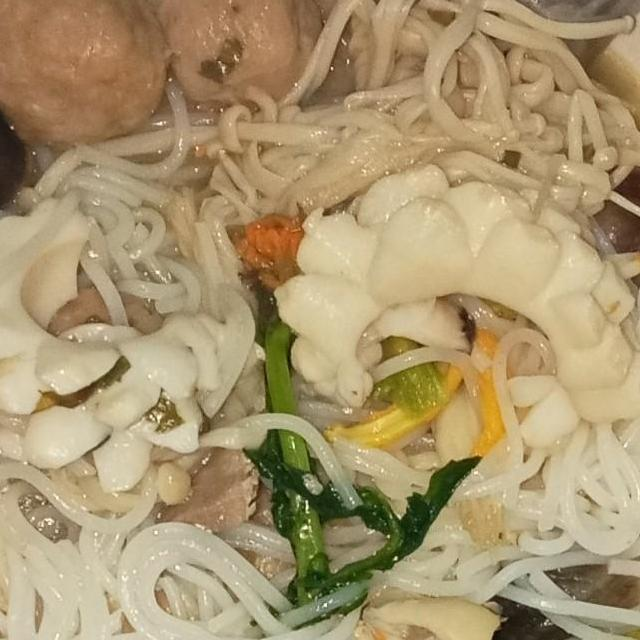bun: (355, 325, 640, 637), (0, 448, 389, 640), (13, 63, 252, 330)
muc: (265, 157, 640, 429), (0, 190, 266, 492)
